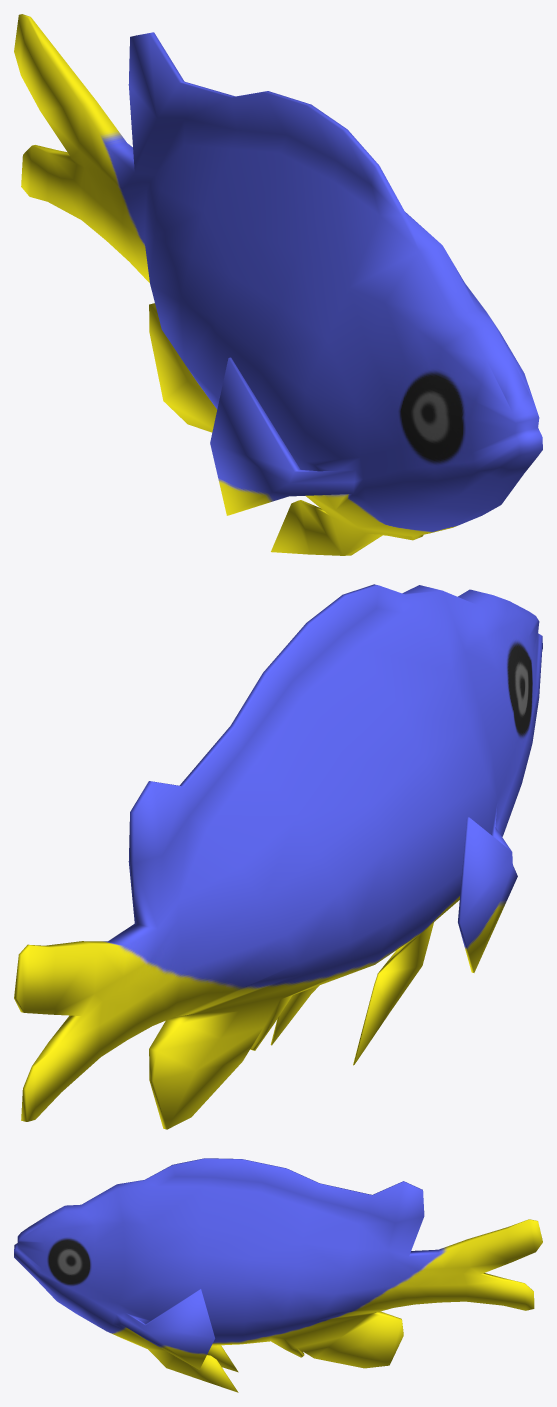
Rendered from Fish02.FBX.
3 renders of one model, top to bottom at view 1: azimuth 30°, elevation 25°; view 2: azimuth 150°, elevation 25°; view 3: azimuth 270°, elevation 25°, orthographic. The views are drawn at different scales.
Parts seen in each view (by area): view 1: TropicalFish07; view 2: TropicalFish07; view 3: TropicalFish07.
Part boxes in pixels (left/top/right/bottom): TropicalFish07: left=14, top=14, right=542, bottom=555; TropicalFish07: left=14, top=584, right=542, bottom=1129; TropicalFish07: left=14, top=1158, right=542, bottom=1392.
Size of the model in its own units: 129 by 215 by 461.
Materials: 1 (1 with a texture image).
